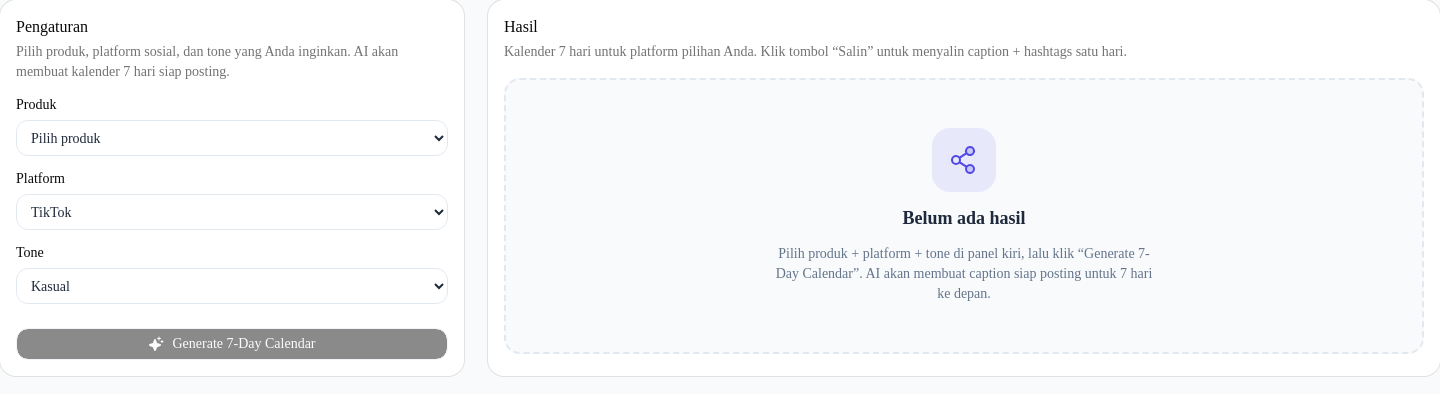
<SocialGenerator /> › shows loading state in the result panel while generateSocialCalendar is in flight
Select "Sample Product A" in the dropdown with test id "social-product" at (232, 138), box [16, 120, 448, 156]
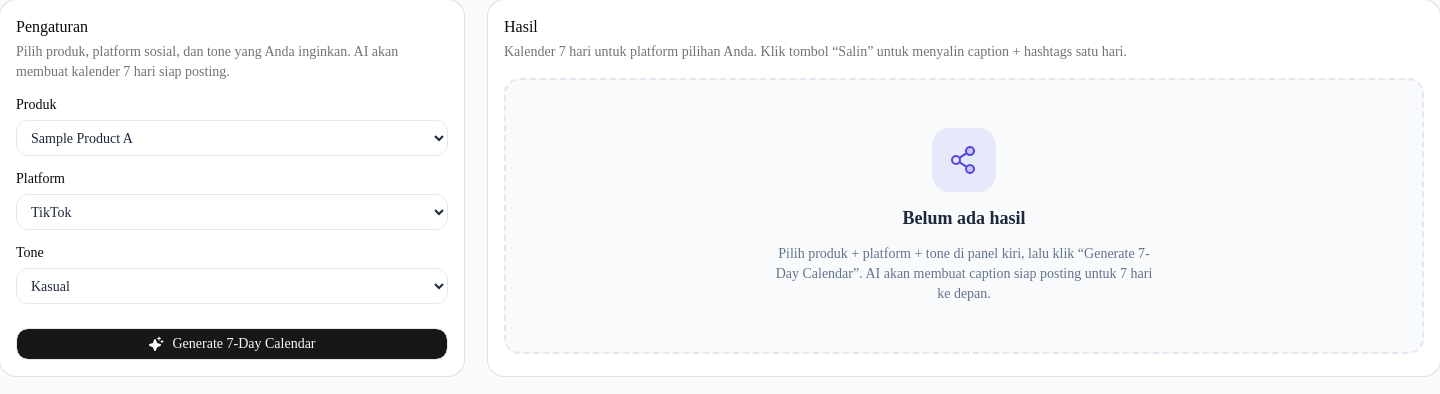
Click the button "Generate 7-Day Calendar" at (232, 344), box [16, 328, 448, 360]
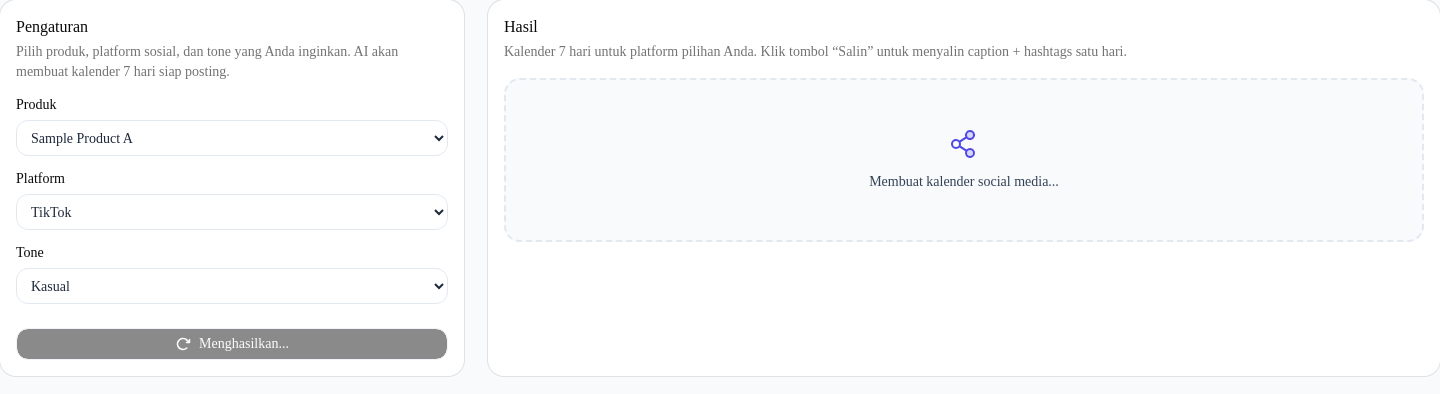
Now the element with test id "social-loading" is shown, box [504, 78, 1424, 242]
Now the text "Membuat kalender social media..." is shown, box [869, 172, 1059, 192]
